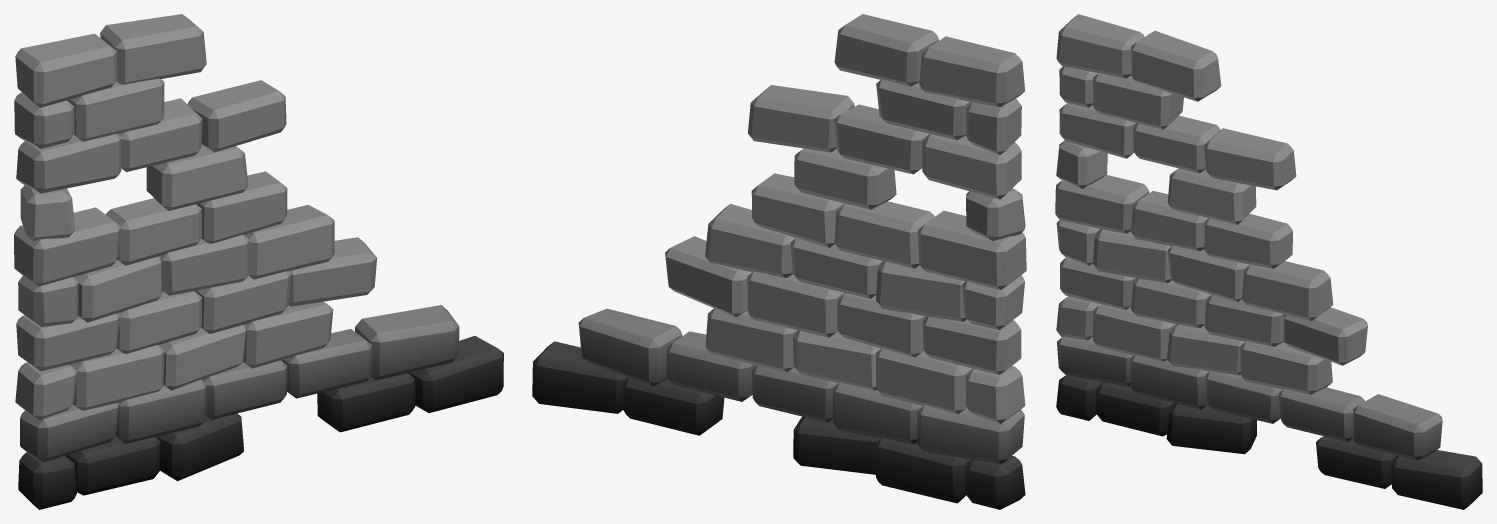
Rendered from BrickWall2x2_01_Solo_Broken_R.fbx.
The picture shows the model from 3 angles, left to right: view 1: azimuth 30°, elevation 25°; view 2: azimuth 150°, elevation 25°; view 3: azimuth 330°, elevation 25°; orthographic projection. The views are drawn at different scales.
Parts seen in each view (by area): view 1: BrickWall2x2_01_Solo_Broken_R; view 2: BrickWall2x2_01_Solo_Broken_R; view 3: BrickWall2x2_01_Solo_Broken_R.
Part boxes in pixels (<box>): BrickWall2x2_01_Solo_Broken_R: <box>14,14,503,509</box>; BrickWall2x2_01_Solo_Broken_R: <box>532,14,1026,509</box>; BrickWall2x2_01_Solo_Broken_R: <box>1055,14,1482,509</box>.
Size of the model in its own units: 224 by 201 by 28.17.
